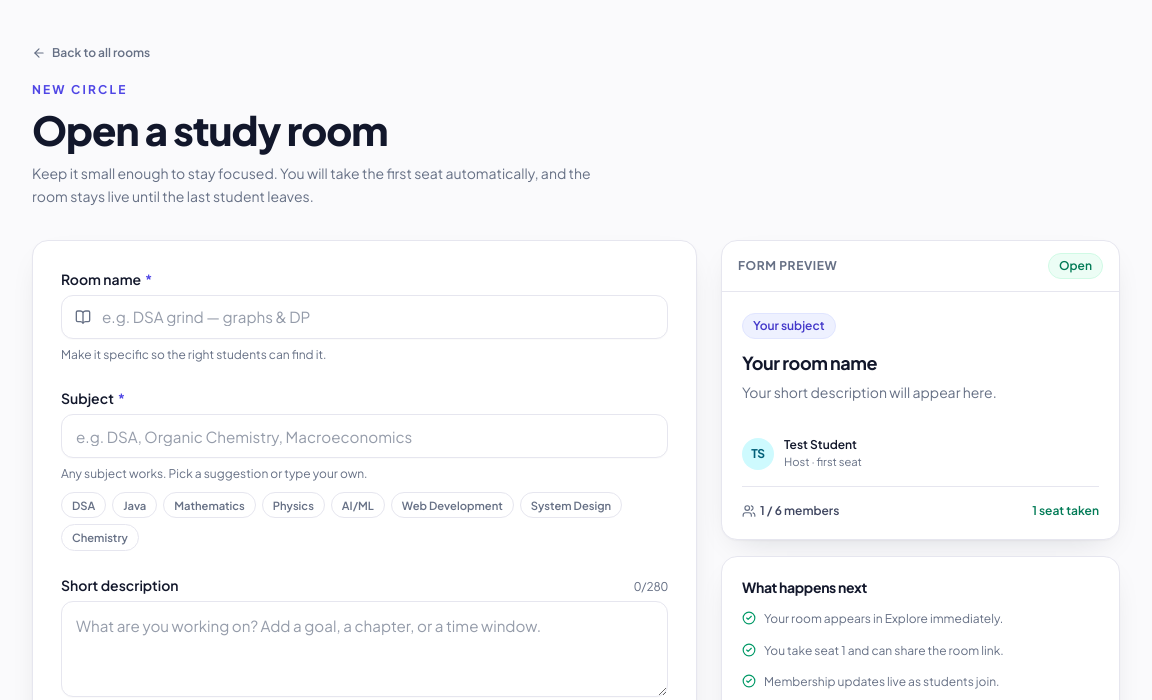
CreateRoomPage › shows a friendly error when the backend rejects the room
This screenshot has width=1152, height=700.
Type "Graphs and DP" into the field labelled "Room name *" at point(364, 316), box top-left (61, 294), bottom-right (668, 338)
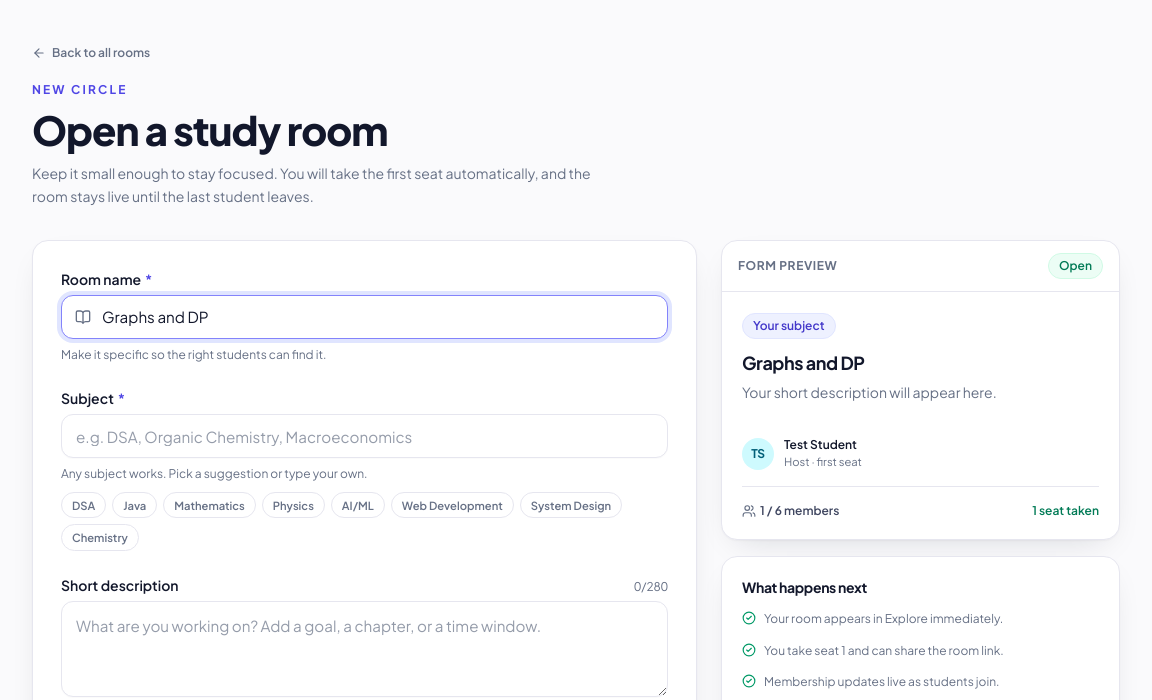
Type "DSA" into the field labelled "Subject *" at point(364, 436), box top-left (61, 414), bottom-right (668, 458)
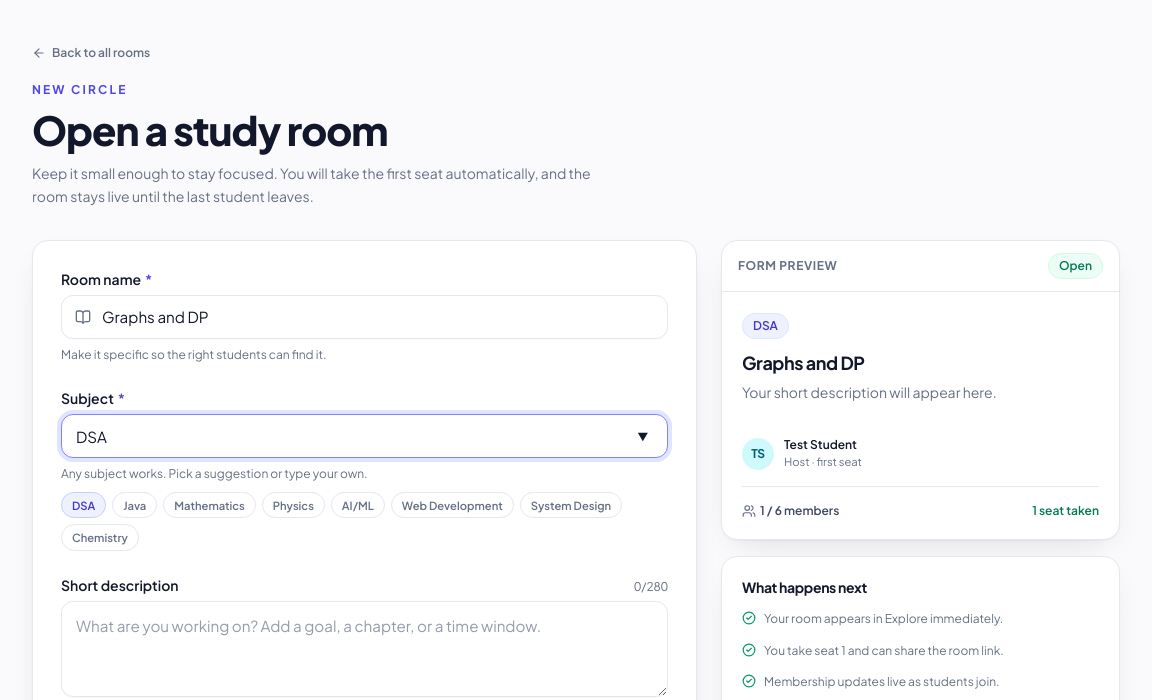
Type "Working through graph traversal problems." into the text box labelled "Short description" at point(364, 649), box top-left (61, 601), bottom-right (668, 697)
(page scrolled)
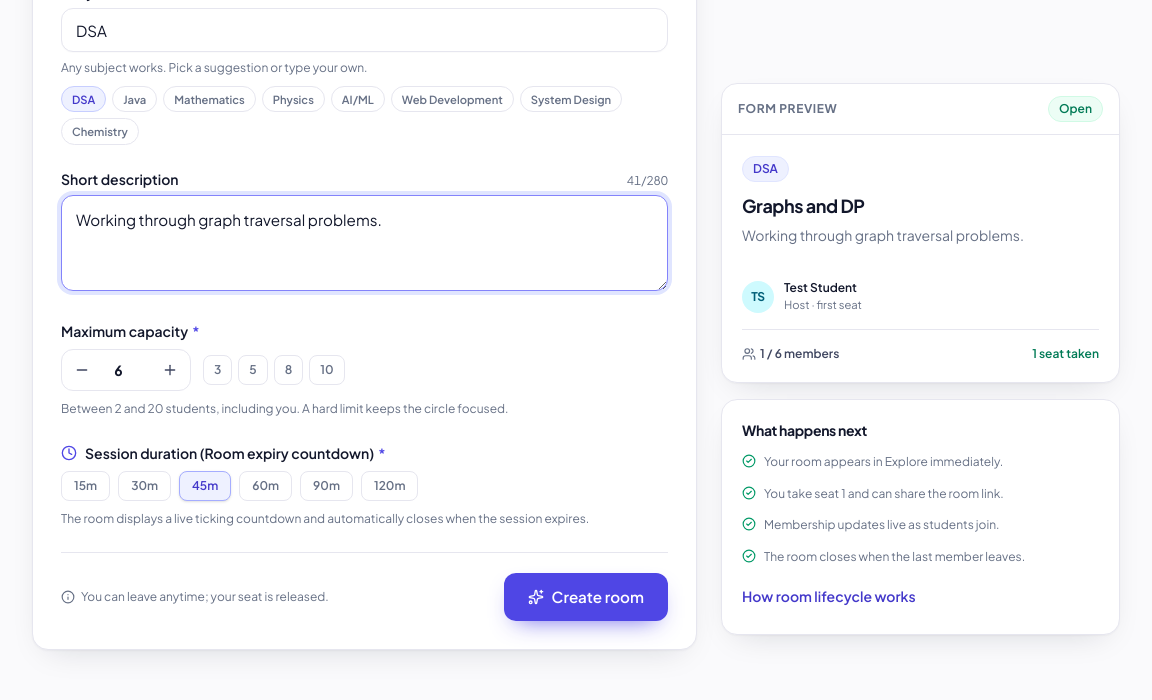
Click the button "Create room" at point(586, 597), box top-left (504, 573), bottom-right (668, 621)
(page scrolled)
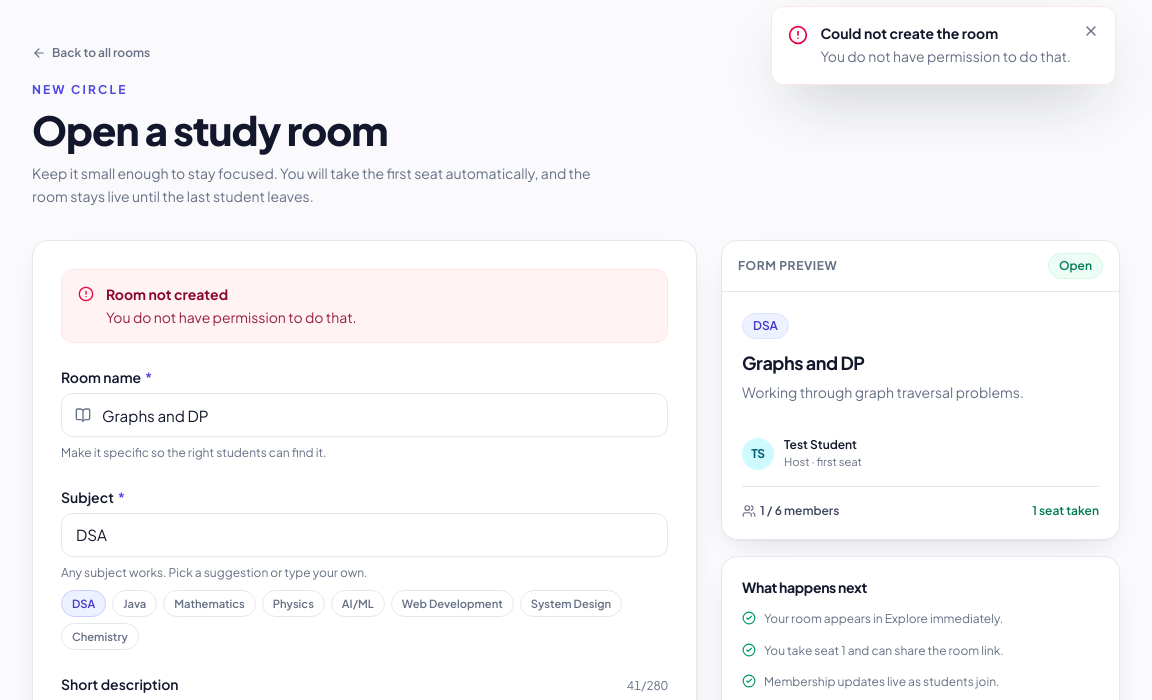
Expected: the text "You do not have permission to do that." below "Room not created" is shown, top-left (106, 308), bottom-right (357, 326)
Expected: the text "Room not created" is shown, top-left (106, 284), bottom-right (228, 302)
